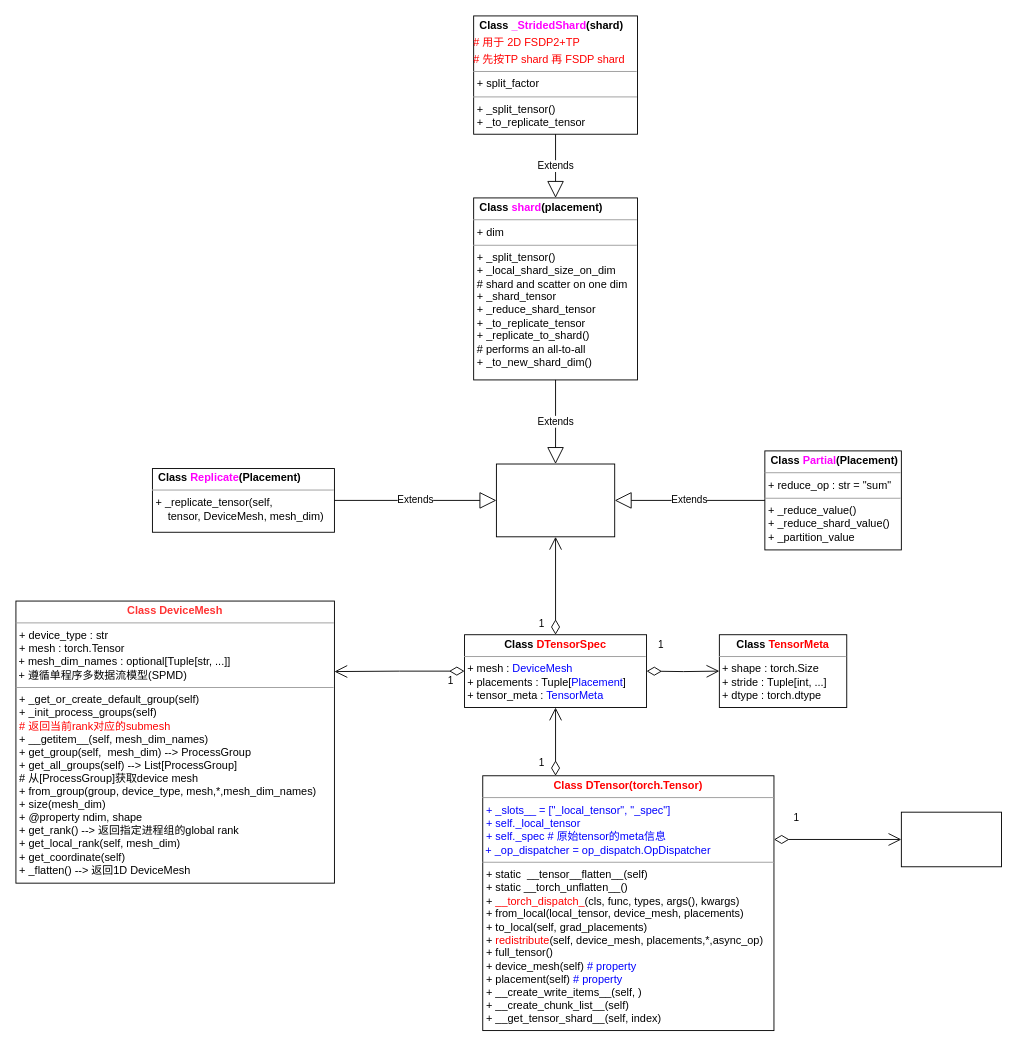
Some shapes in this 1017 by 1047 pixel diagram are drawn without their labels. The shapes that lost their labels are listed below. From the top down, each one's centre as x and y in pixels, then its label:
At (555,500): "Class Placement + is_shard(self) + is_replicate(self) + is_partial(self)".
At (950,839): "Tensor + _local_tensor".
